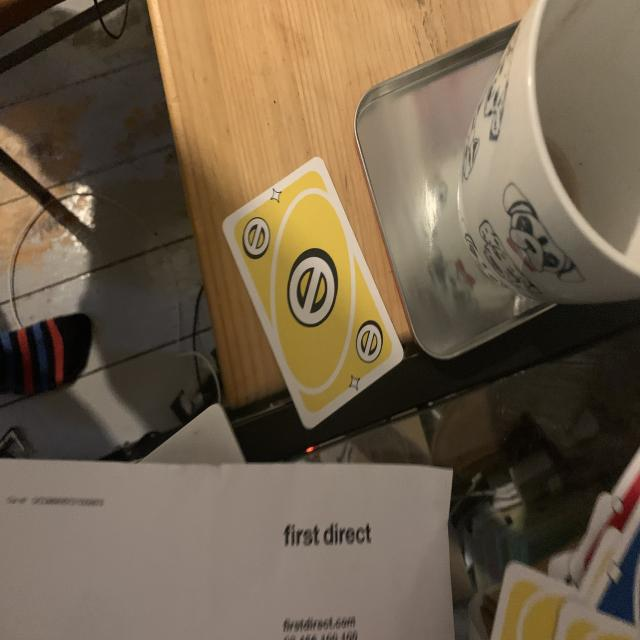lyellowskip-20: (237, 212, 276, 264)
